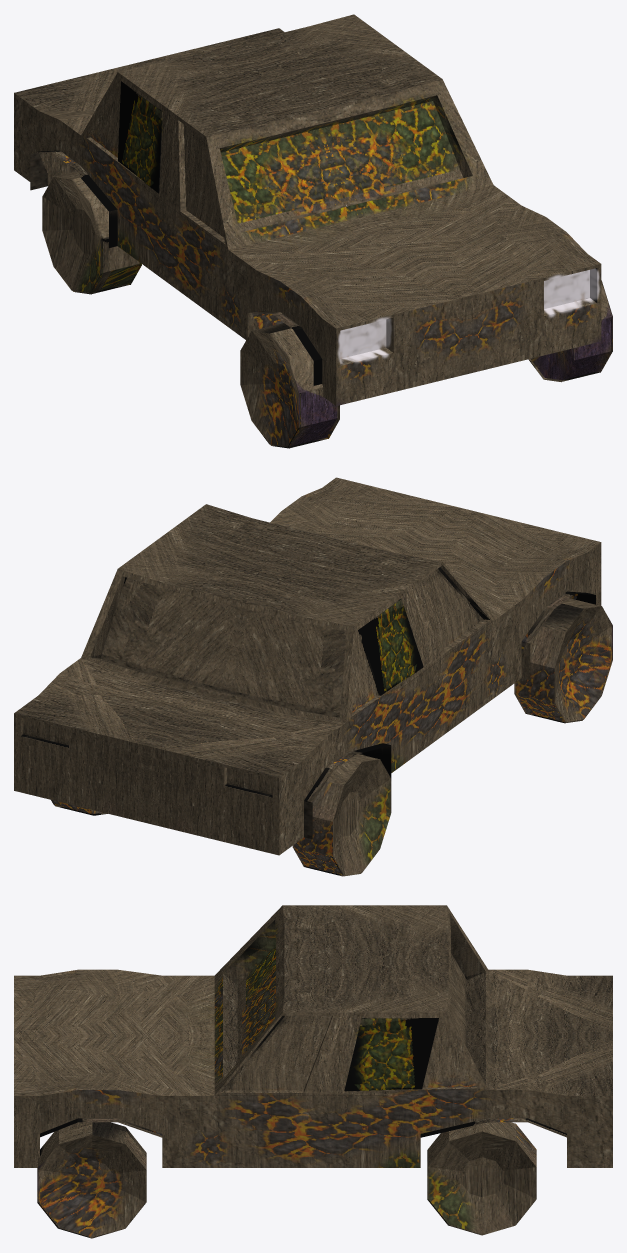
Rendered from carmodelcolor.obj.
3 renders of one model, top to bottom at view 1: azimuth 30°, elevation 25°; view 2: azimuth 150°, elevation 25°; view 3: azimuth 270°, elevation 25°, orthographic. The views are drawn at different scales.
Visible parts, largest first — view 1: Cube_Cube.001; view 2: Cube_Cube.001; view 3: Cube_Cube.001.
Part boxes in pixels (bbox=[...]): Cube_Cube.001: bbox=[14, 14, 612, 448]; Cube_Cube.001: bbox=[14, 477, 612, 876]; Cube_Cube.001: bbox=[14, 905, 612, 1238].
Size of the model in its own units: 3.36 by 2.32 by 5.96.
